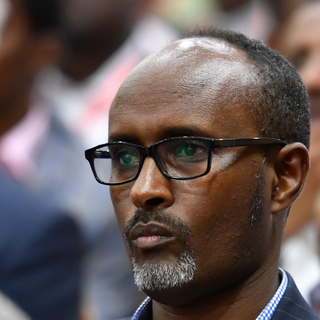eye: (164, 138, 214, 167), (110, 147, 145, 172)
